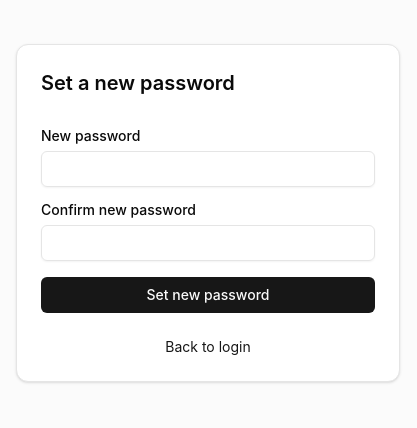
Test: PasswordResetConfirmPage › shows inline validation errors when both password fields are left blank
The image size is (417, 428).
Click the button "Set new password" at (208, 295), box x1=41 y1=277 x2=375 y2=313
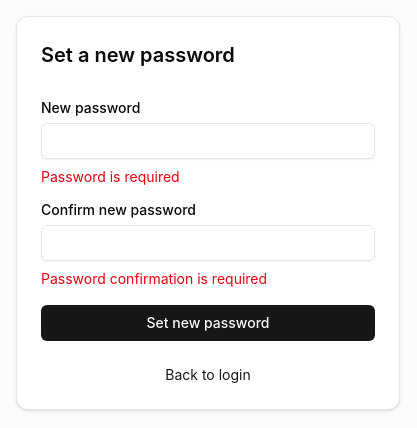
Expected: the text "Password is required" is shown, x1=41 y1=168 x2=180 y2=185
Expected: the text "Password confirmation is required" is shown, x1=41 y1=270 x2=267 y2=287
